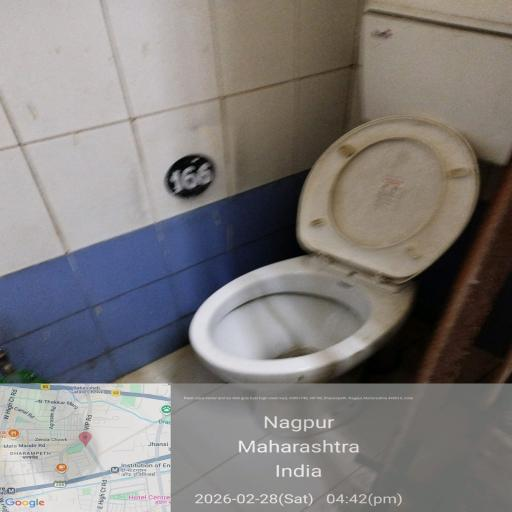partial_dirty_floor: (0, 9, 312, 311), (27, 354, 442, 512)
partial_dirty_western: (220, 112, 454, 447)
